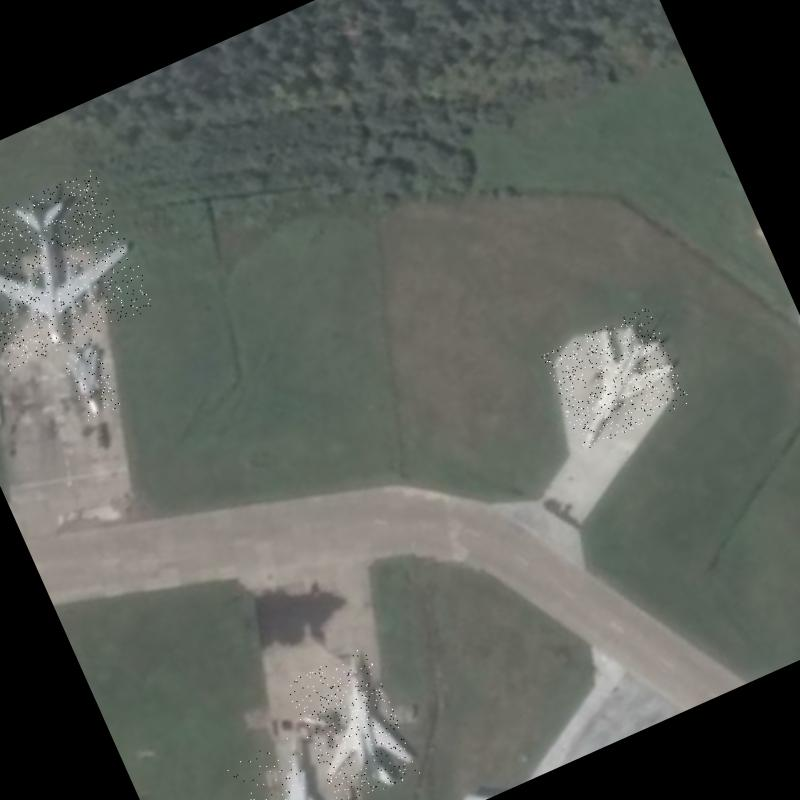A12: (540, 306, 692, 451), (283, 646, 421, 800), (224, 733, 349, 800)
A17: (0, 168, 157, 372)
A20: (59, 338, 123, 420)
